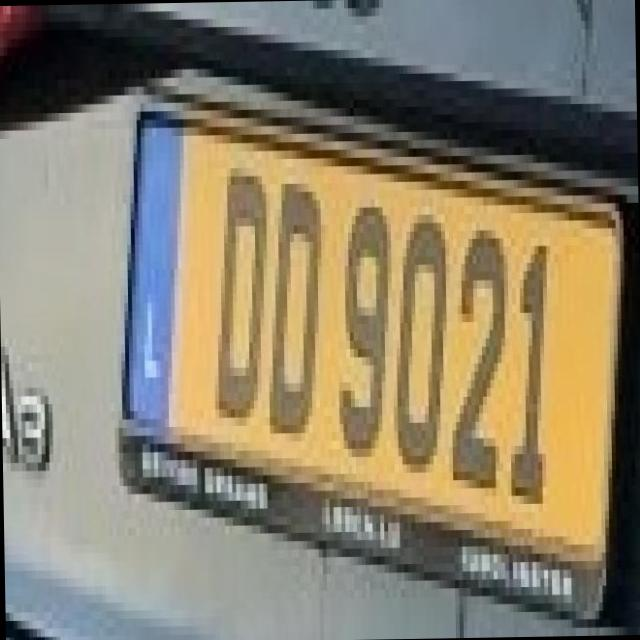0: (374, 189, 456, 465)
1: (491, 212, 569, 496)
2: (432, 204, 522, 480)
9: (320, 182, 398, 458)
D: (241, 158, 328, 425), (195, 142, 278, 418)
